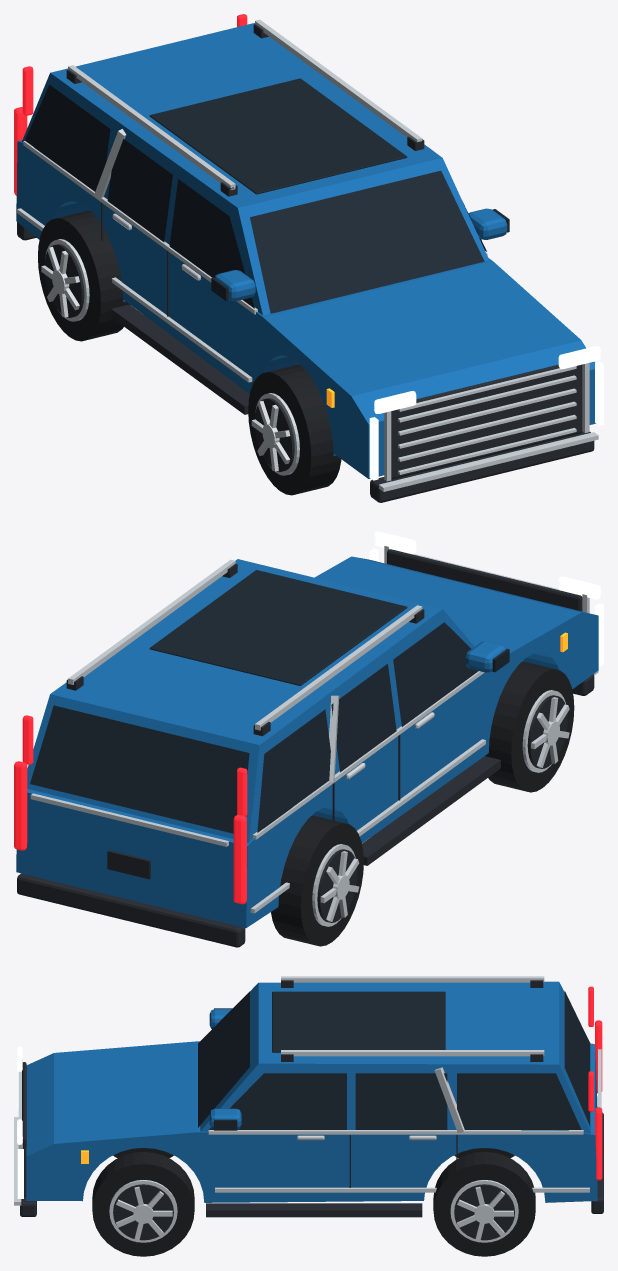
The model's file is suv-reference.glb.
3 views of the same model, one above another, from view 1: azimuth 30°, elevation 25°; view 2: azimuth 150°, elevation 25°; view 3: azimuth 270°, elevation 25° (orthographic). The views are drawn at different scales.
Visible parts, largest first — view 1: Carrocería · pasos de rueda abiertos, Cabina, Parabrisas, Techo panorámico, Parrilla negra, Neumático, Neumático.001, Ventana lateral del baúl, Ventana delantera, Ventana trasera, Estribo, Bajo delantero (+20 smaller); view 2: Carrocería · pasos de rueda abiertos, Cabina, Luneta, Techo panorámico, Neumático.001, Neumático, Ventana lateral del baúl, Paragolpes trasero, Ventana delantera, Ventana trasera, Estribo, Parrilla negra (+17 smaller); view 3: Carrocería · pasos de rueda abiertos, Cabina, Techo panorámico, Ventana lateral del baúl.001, Ventana delantera.001, Neumático.002, Neumático.003, Ventana trasera.001, Parabrisas, Estribo.001, Luneta, Marco cromado inferior.001 (+13 smaller).
Part boxes in pixels (x1=…): Carrocería · pasos de rueda abiertos: x1=16, y1=140, x2=595, y2=478; Cabina: x1=22, y1=23, x2=488, y2=315; Parabrisas: x1=250, y1=170, x2=484, y2=313; Techo panorámico: x1=149, y1=78, x2=407, y2=194; Parrilla negra: x1=391, y1=364, x2=582, y2=479; Neumático: x1=248, y1=364, x2=341, y2=495; Neumático.001: x1=38, y1=210, x2=129, y2=341; Ventana lateral del baúl: x1=25, y1=84, x2=110, y2=191; Ventana delantera: x1=169, y1=179, x2=254, y2=308; Ventana trasera: x1=107, y1=133, x2=172, y2=242; Estribo: x1=111, y1=304, x2=249, y2=414; Bajo delantero: x1=370, y1=431, x2=594, y2=502; Carrocería · pasos de rueda abiertos: x1=16, y1=556, x2=598, y2=927; Cabina: x1=27, y1=559, x2=474, y2=842; Luneta: x1=30, y1=705, x2=249, y2=833; Techo panorámico: x1=149, y1=570, x2=407, y2=685; Neumático.001: x1=271, y1=815, x2=363, y2=946; Neumático: x1=485, y1=661, x2=574, y2=792; Ventana lateral del baúl: x1=257, y1=709, x2=330, y2=832; Paragolpes trasero: x1=17, y1=873, x2=245, y2=947; Ventana delantera: x1=393, y1=622, x2=478, y2=726; Ventana trasera: x1=331, y1=663, x2=396, y2=772; Estribo: x1=362, y1=756, x2=500, y2=865; Parrilla negra: x1=387, y1=549, x2=582, y2=611; Carrocería · pasos de rueda abiertos: x1=26, y1=1041, x2=597, y2=1202; Cabina: x1=200, y1=981, x2=590, y2=1133; Techo panorámico: x1=272, y1=991, x2=445, y2=1052; Ventana lateral del baúl.001: x1=457, y1=1073, x2=581, y2=1129; Ventana delantera.001: x1=209, y1=1073, x2=346, y2=1129; Neumático.002: x1=92, y1=1152, x2=194, y2=1256; Neumático.003: x1=433, y1=1152, x2=535, y2=1256; Ventana trasera.001: x1=355, y1=1073, x2=447, y2=1129; Parabrisas: x1=198, y1=991, x2=249, y2=1127; Estribo.001: x1=206, y1=1203, x2=422, y2=1217; Luneta: x1=564, y1=991, x2=589, y2=1125; Marco cromado inferior.001: x1=208, y1=1130, x2=583, y2=1134.
Bounding box in the file's own units: 2.51 × 1.97 × 5.54.
